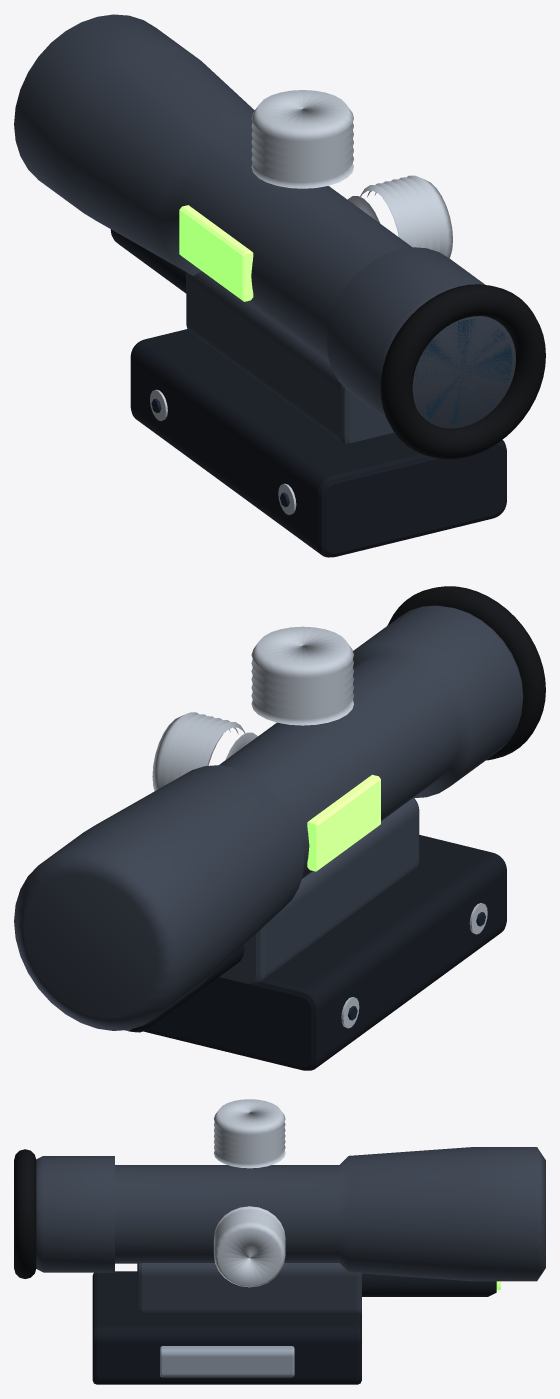
File: attach_rangefinder.glb
3 renders of one model, top to bottom at view 1: azimuth 30°, elevation 25°; view 2: azimuth 150°, elevation 25°; view 3: azimuth 270°, elevation 25°, orthographic. The views are drawn at different scales.
Visible parts, largest first — view 1: attach_rangefinder_tube, attach_rangefinder_clamp, attach_rangefinder_eyecup, attach_rangefinder_riser, attach_rangefinder_elev, attach_rangefinder_windage, attach_rangefinder_readout, attach_rangefinder_oc_glass, attach_rangefinder_laser, attach_rangefinder_screws; view 2: attach_rangefinder_tube, attach_rangefinder_clamp, attach_rangefinder_riser, attach_rangefinder_elev, attach_rangefinder_eyecup, attach_rangefinder_readout, attach_rangefinder_windage, attach_rangefinder_laser, attach_rangefinder_screws; view 3: attach_rangefinder_tube, attach_rangefinder_clamp, attach_rangefinder_riser, attach_rangefinder_windage, attach_rangefinder_elev, attach_rangefinder_qd, attach_rangefinder_eyecup, attach_rangefinder_laser.
Boxes of the visible parts, box(x1,y1,x2,y2) form: attach_rangefinder_tube: box(14, 14, 515, 428); attach_rangefinder_clamp: box(130, 329, 506, 557); attach_rangefinder_eyecup: box(380, 284, 545, 459); attach_rangefinder_riser: box(186, 271, 394, 443); attach_rangefinder_elev: box(251, 90, 353, 188); attach_rangefinder_windage: box(347, 175, 452, 258); attach_rangefinder_readout: box(179, 205, 253, 301); attach_rangefinder_oc_glass: box(415, 319, 512, 424); attach_rangefinder_laser: box(110, 229, 186, 293); attach_rangefinder_screws: box(150, 389, 296, 515); attach_rangefinder_tube: box(14, 605, 523, 1030); attach_rangefinder_clamp: box(144, 835, 506, 1070); attach_rangefinder_riser: box(219, 797, 419, 983); attach_rangefinder_elev: box(251, 626, 353, 725); attach_rangefinder_eyecup: box(387, 586, 545, 760); attach_rangefinder_readout: box(307, 774, 380, 871); attach_rangefinder_windage: box(152, 712, 257, 790); attach_rangefinder_laser: box(125, 945, 244, 1032); attach_rangefinder_screws: box(341, 903, 487, 1028); attach_rangefinder_tube: box(36, 1147, 545, 1281); attach_rangefinder_clamp: box(92, 1271, 361, 1384); attach_rangefinder_riser: box(137, 1263, 361, 1313); attach_rangefinder_windage: box(213, 1206, 285, 1287); attach_rangefinder_elev: box(214, 1099, 285, 1168); attach_rangefinder_qd: box(160, 1346, 294, 1377); attach_rangefinder_eyecup: box(14, 1149, 36, 1278); attach_rangefinder_laser: box(362, 1273, 496, 1296).
Size of the model in its own units: 0.0409 by 0.06 by 0.1185.
